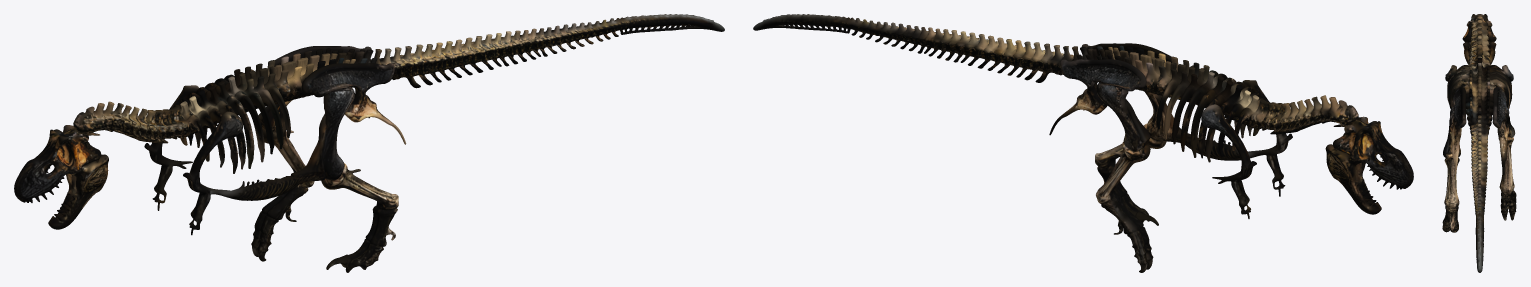
The model's file is bone.glb.
The picture shows the model from 3 angles, left to right: view 1: azimuth 30°, elevation 25°; view 2: azimuth 150°, elevation 25°; view 3: azimuth 270°, elevation 25°; orthographic projection. The views are drawn at different scales.
Visible parts, largest first — view 1: node_0; view 2: node_0; view 3: node_0.
Part boxes in pixels (x1,y1,x2,y2): node_0: (14,14,724,272); node_0: (753,14,1413,272); node_0: (1442,14,1516,272).
Size of the model in its own units: 1.19 by 0.3458 by 0.1608.
1 material, 1 textured.
